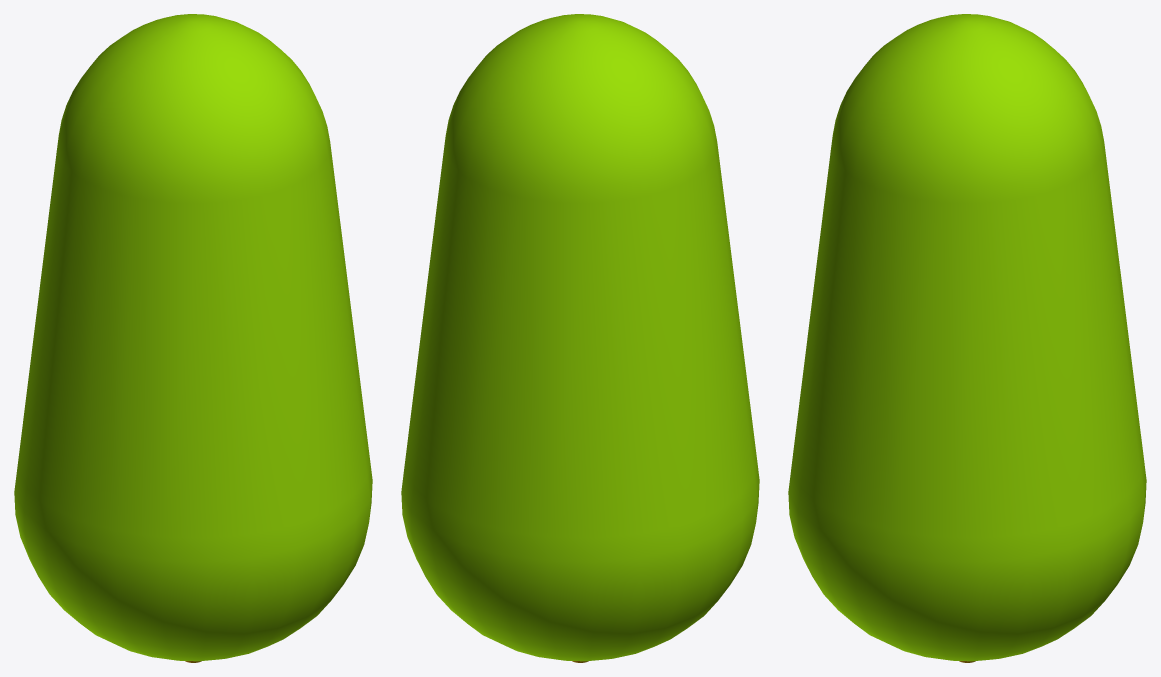
File: HPSmr10m.glb
3 views of the same model, side by side, from view 1: azimuth 30°, elevation 25°; view 2: azimuth 150°, elevation 25°; view 3: azimuth 270°, elevation 25° (orthographic).
Parts seen in each view (by area): view 1: HPSmr10m; view 2: HPSmr10m; view 3: HPSmr10m.
Part boxes in pixels (x1,y1,x2,y2): HPSmr10m: (14,14,372,662); HPSmr10m: (401,14,759,662); HPSmr10m: (788,14,1146,662).
Size of the model in its own units: 5.1 by 10 by 5.1.
